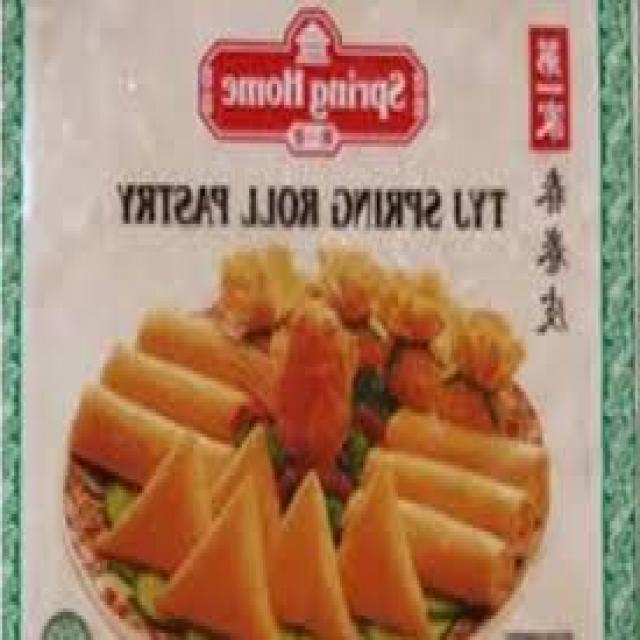Samosa: (105, 437, 412, 637)
Spring Rolls: (354, 402, 554, 591), (74, 297, 277, 476)
